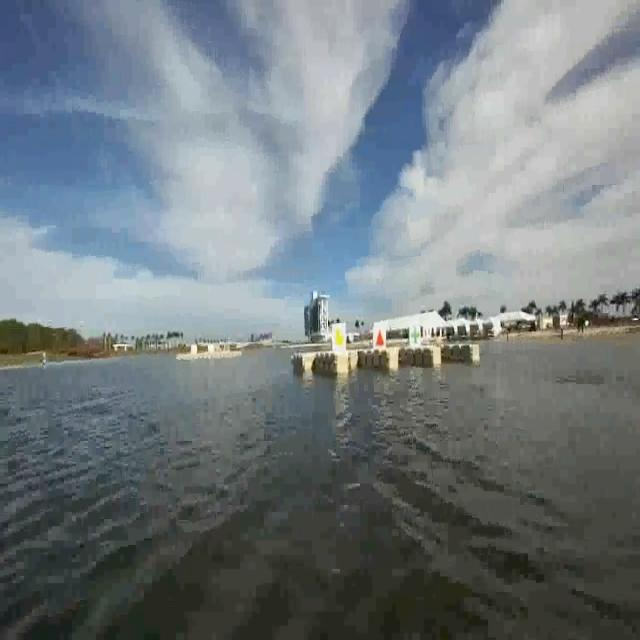blue-cross: (409, 324, 424, 351)
yellow-duck: (332, 323, 346, 352)
